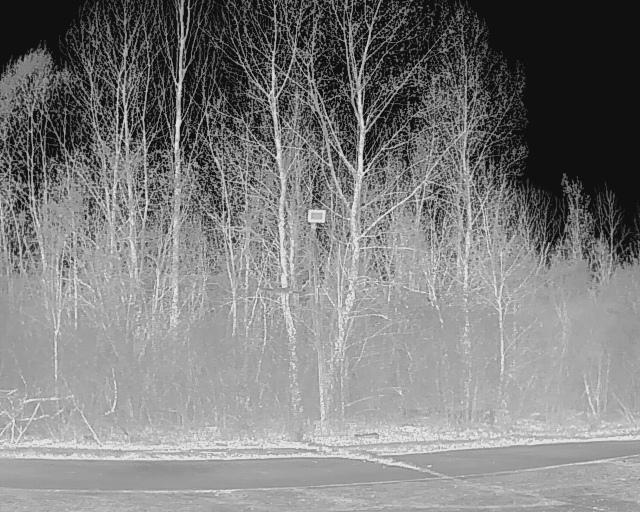drone: (252, 272, 318, 314)
